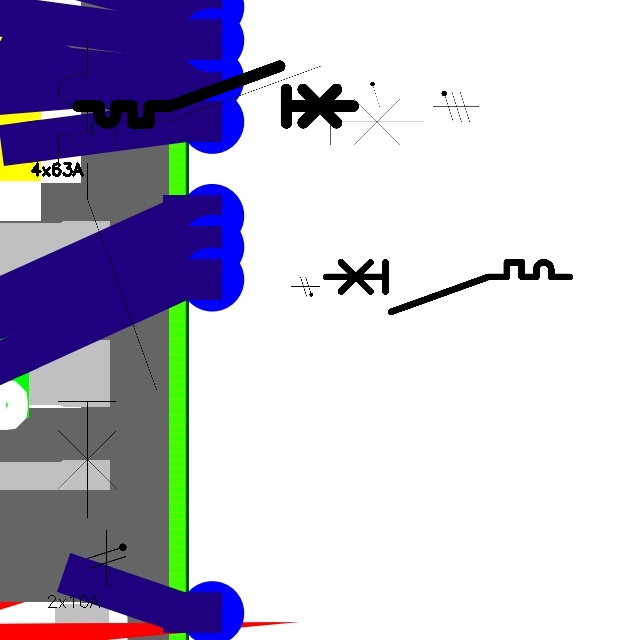interruptor_termomagnetico: (46, 27, 169, 530), (30, 56, 434, 155), (71, 59, 360, 130), (319, 256, 575, 318)
